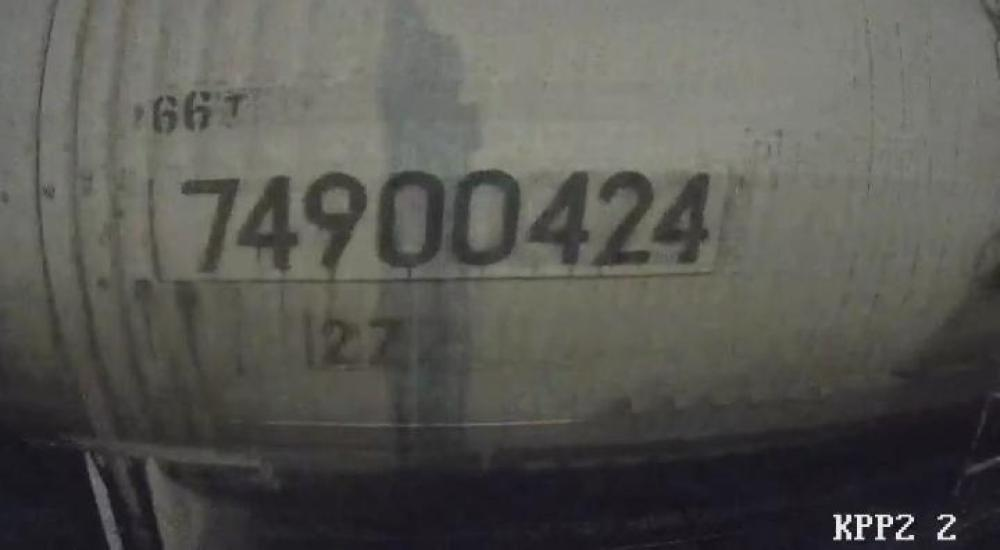Wagon-number: (171, 163, 715, 277)
